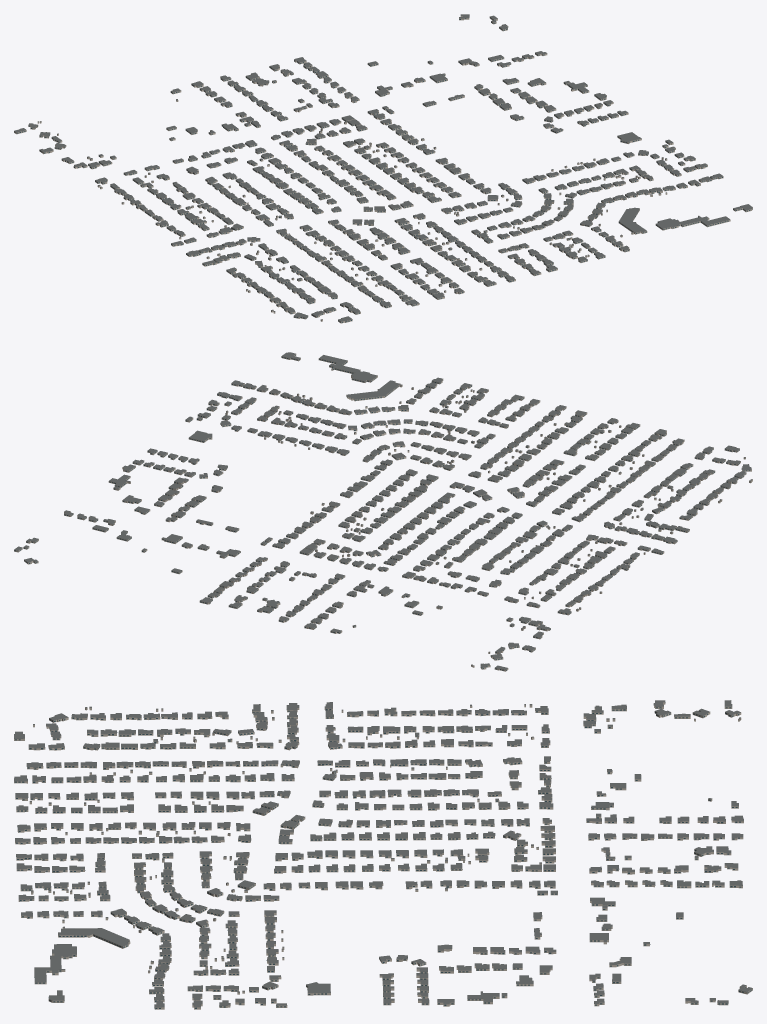
3 renders of one model, top to bottom at view 1: azimuth 30°, elevation 25°; view 2: azimuth 150°, elevation 25°; view 3: azimuth 270°, elevation 25°, orthographic. The views are drawn at different scales.
Parts seen in each view (by area): view 1: Buildings (0, -7) Roof membrane, Buildings (0, -7) Masonry brick, Buildings (0, -7) Architectural tinted glass, Buildings (0, -7) Metal coping; view 2: Buildings (0, -7) Roof membrane, Buildings (0, -7) Masonry brick, Buildings (0, -7) Architectural tinted glass, Buildings (0, -7) Metal coping; view 3: Buildings (0, -7) Roof membrane, Buildings (0, -7) Masonry brick, Buildings (0, -7) Architectural tinted glass, Buildings (0, -7) Metal coping.
Boxes of the visible parts, x1,y1,x2,y2 form: Buildings (0, -7) Roof membrane: [14, 14, 752, 321]; Buildings (0, -7) Masonry brick: [14, 16, 752, 323]; Buildings (0, -7) Architectural tinted glass: [14, 17, 752, 322]; Buildings (0, -7) Metal coping: [28, 17, 750, 319]; Buildings (0, -7) Roof membrane: [14, 352, 752, 669]; Buildings (0, -7) Masonry brick: [14, 354, 752, 671]; Buildings (0, -7) Architectural tinted glass: [14, 355, 750, 670]; Buildings (0, -7) Metal coping: [26, 352, 752, 668]; Buildings (0, -7) Roof membrane: [14, 700, 752, 1007]; Buildings (0, -7) Masonry brick: [14, 702, 752, 1009]; Buildings (0, -7) Architectural tinted glass: [14, 702, 752, 1009]; Buildings (0, -7) Metal coping: [14, 702, 747, 1007].
Bounding box in the file's own units: 994 × 6.58 × 1013.
